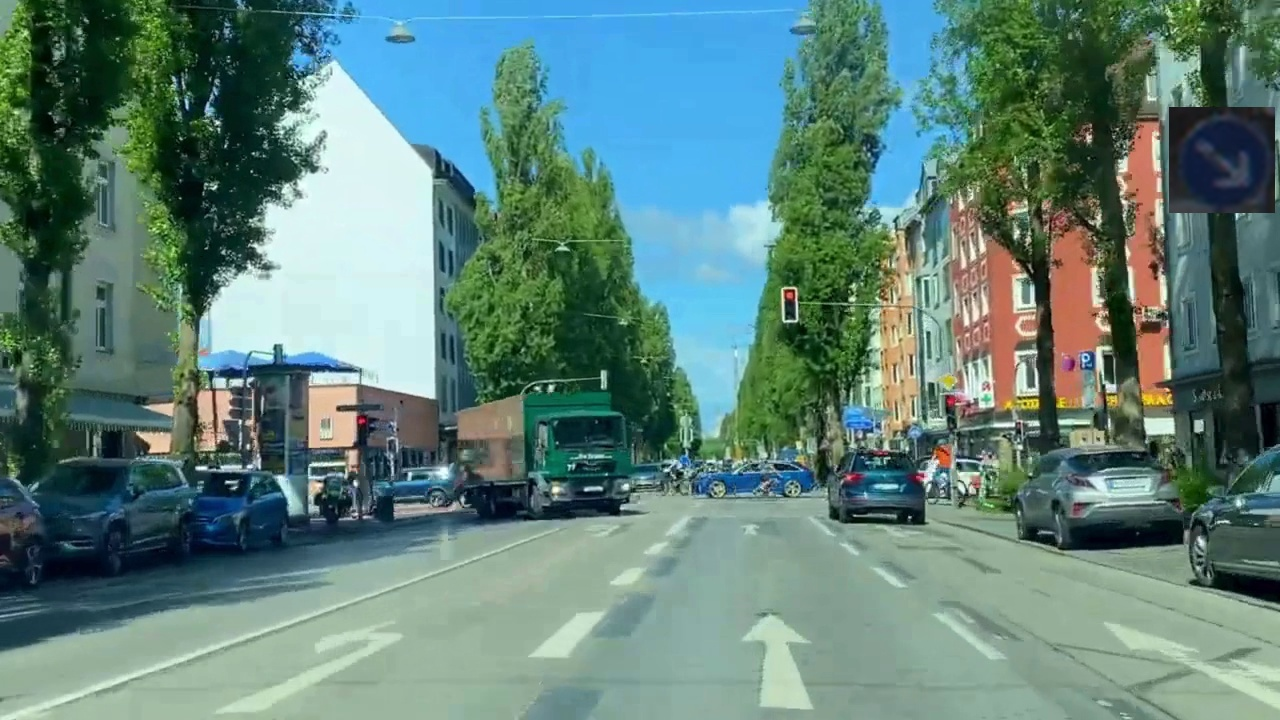Keep right: (1169, 107, 1275, 213)
